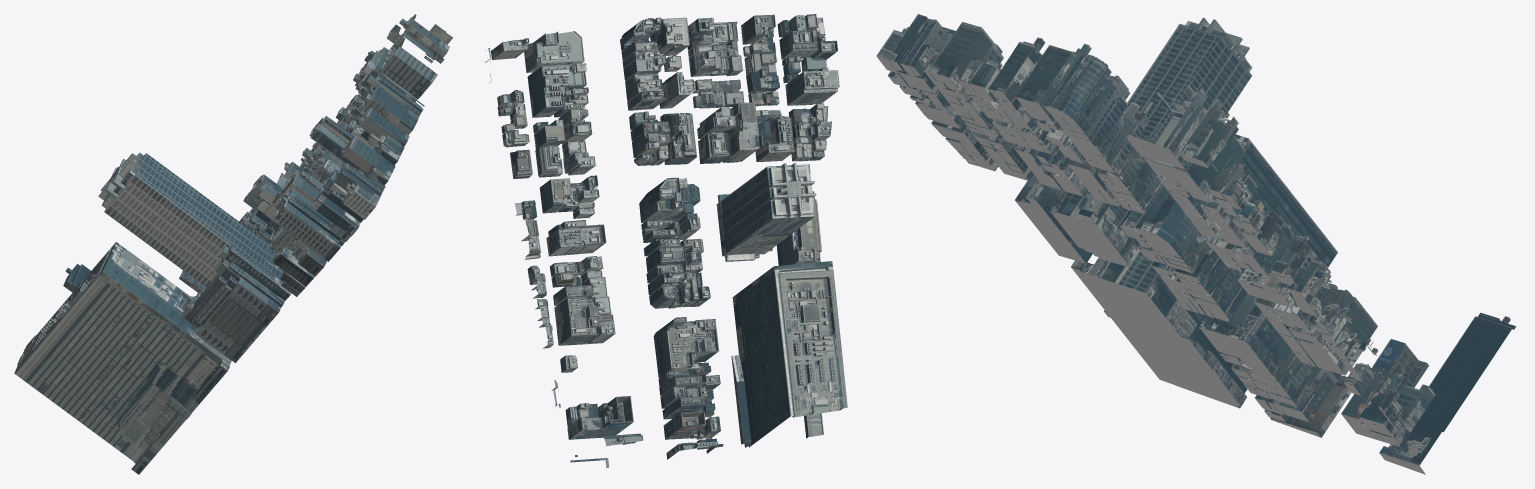
File: 19769_bldg_Building.glb
3 views of the same model, side by side, from view 1: azimuth 30°, elevation 25°; view 2: azimuth 150°, elevation 25°; view 3: azimuth 270°, elevation 25° (orthographic). The views are drawn at different scales.
Bounding box in the file's own units: 315 × 271 × 347.
Materials: 9 (7 with a texture image).
